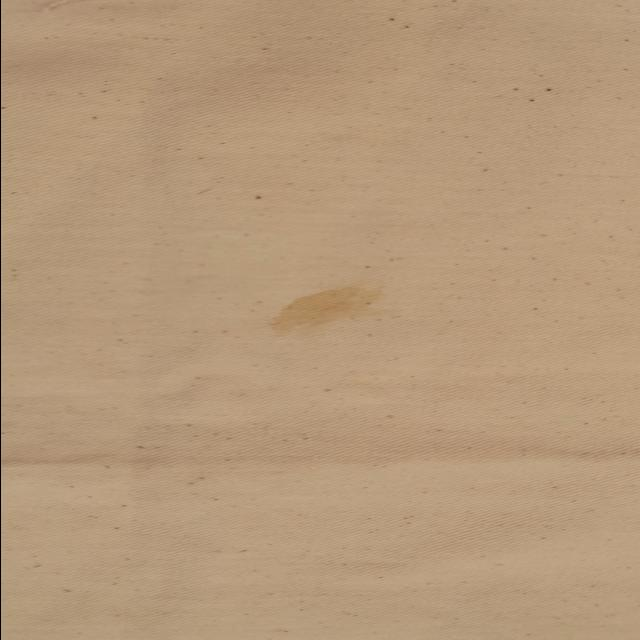taaaches: (263, 284, 395, 342)
